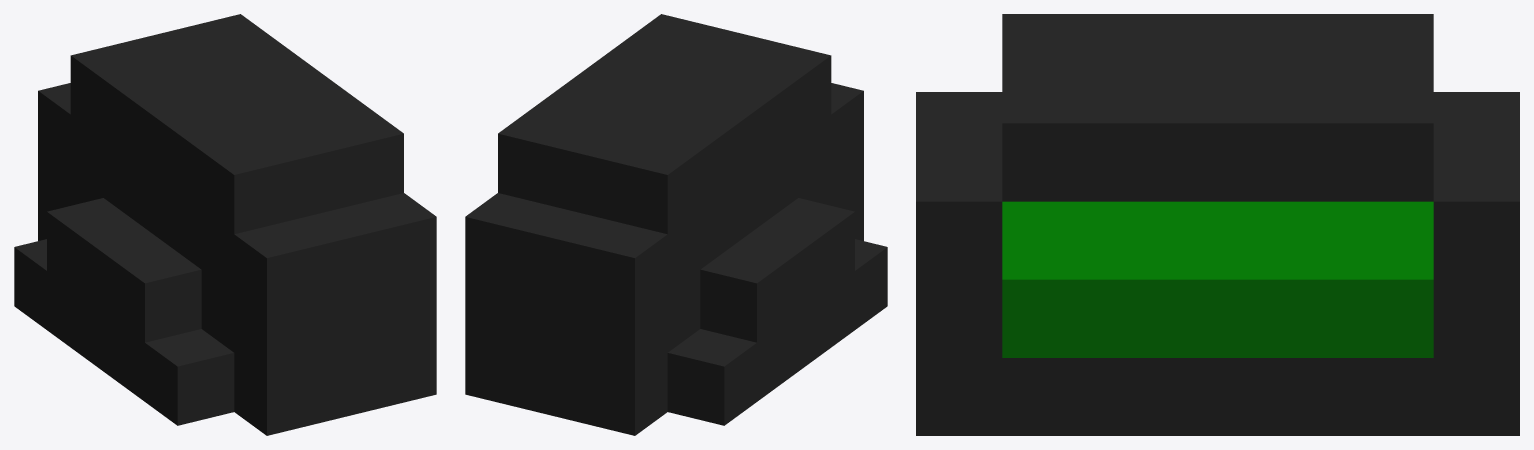
File: F_Clock.obj
3 renders of one model, left to right at view 1: azimuth 30°, elevation 25°; view 2: azimuth 150°, elevation 25°; view 3: azimuth 270°, elevation 25°, orthographic. The views are drawn at different scales.
Bounding box in the file's own units: 0.4 × 0.4 × 0.7.
Materials: 1 (1 with a texture image).
